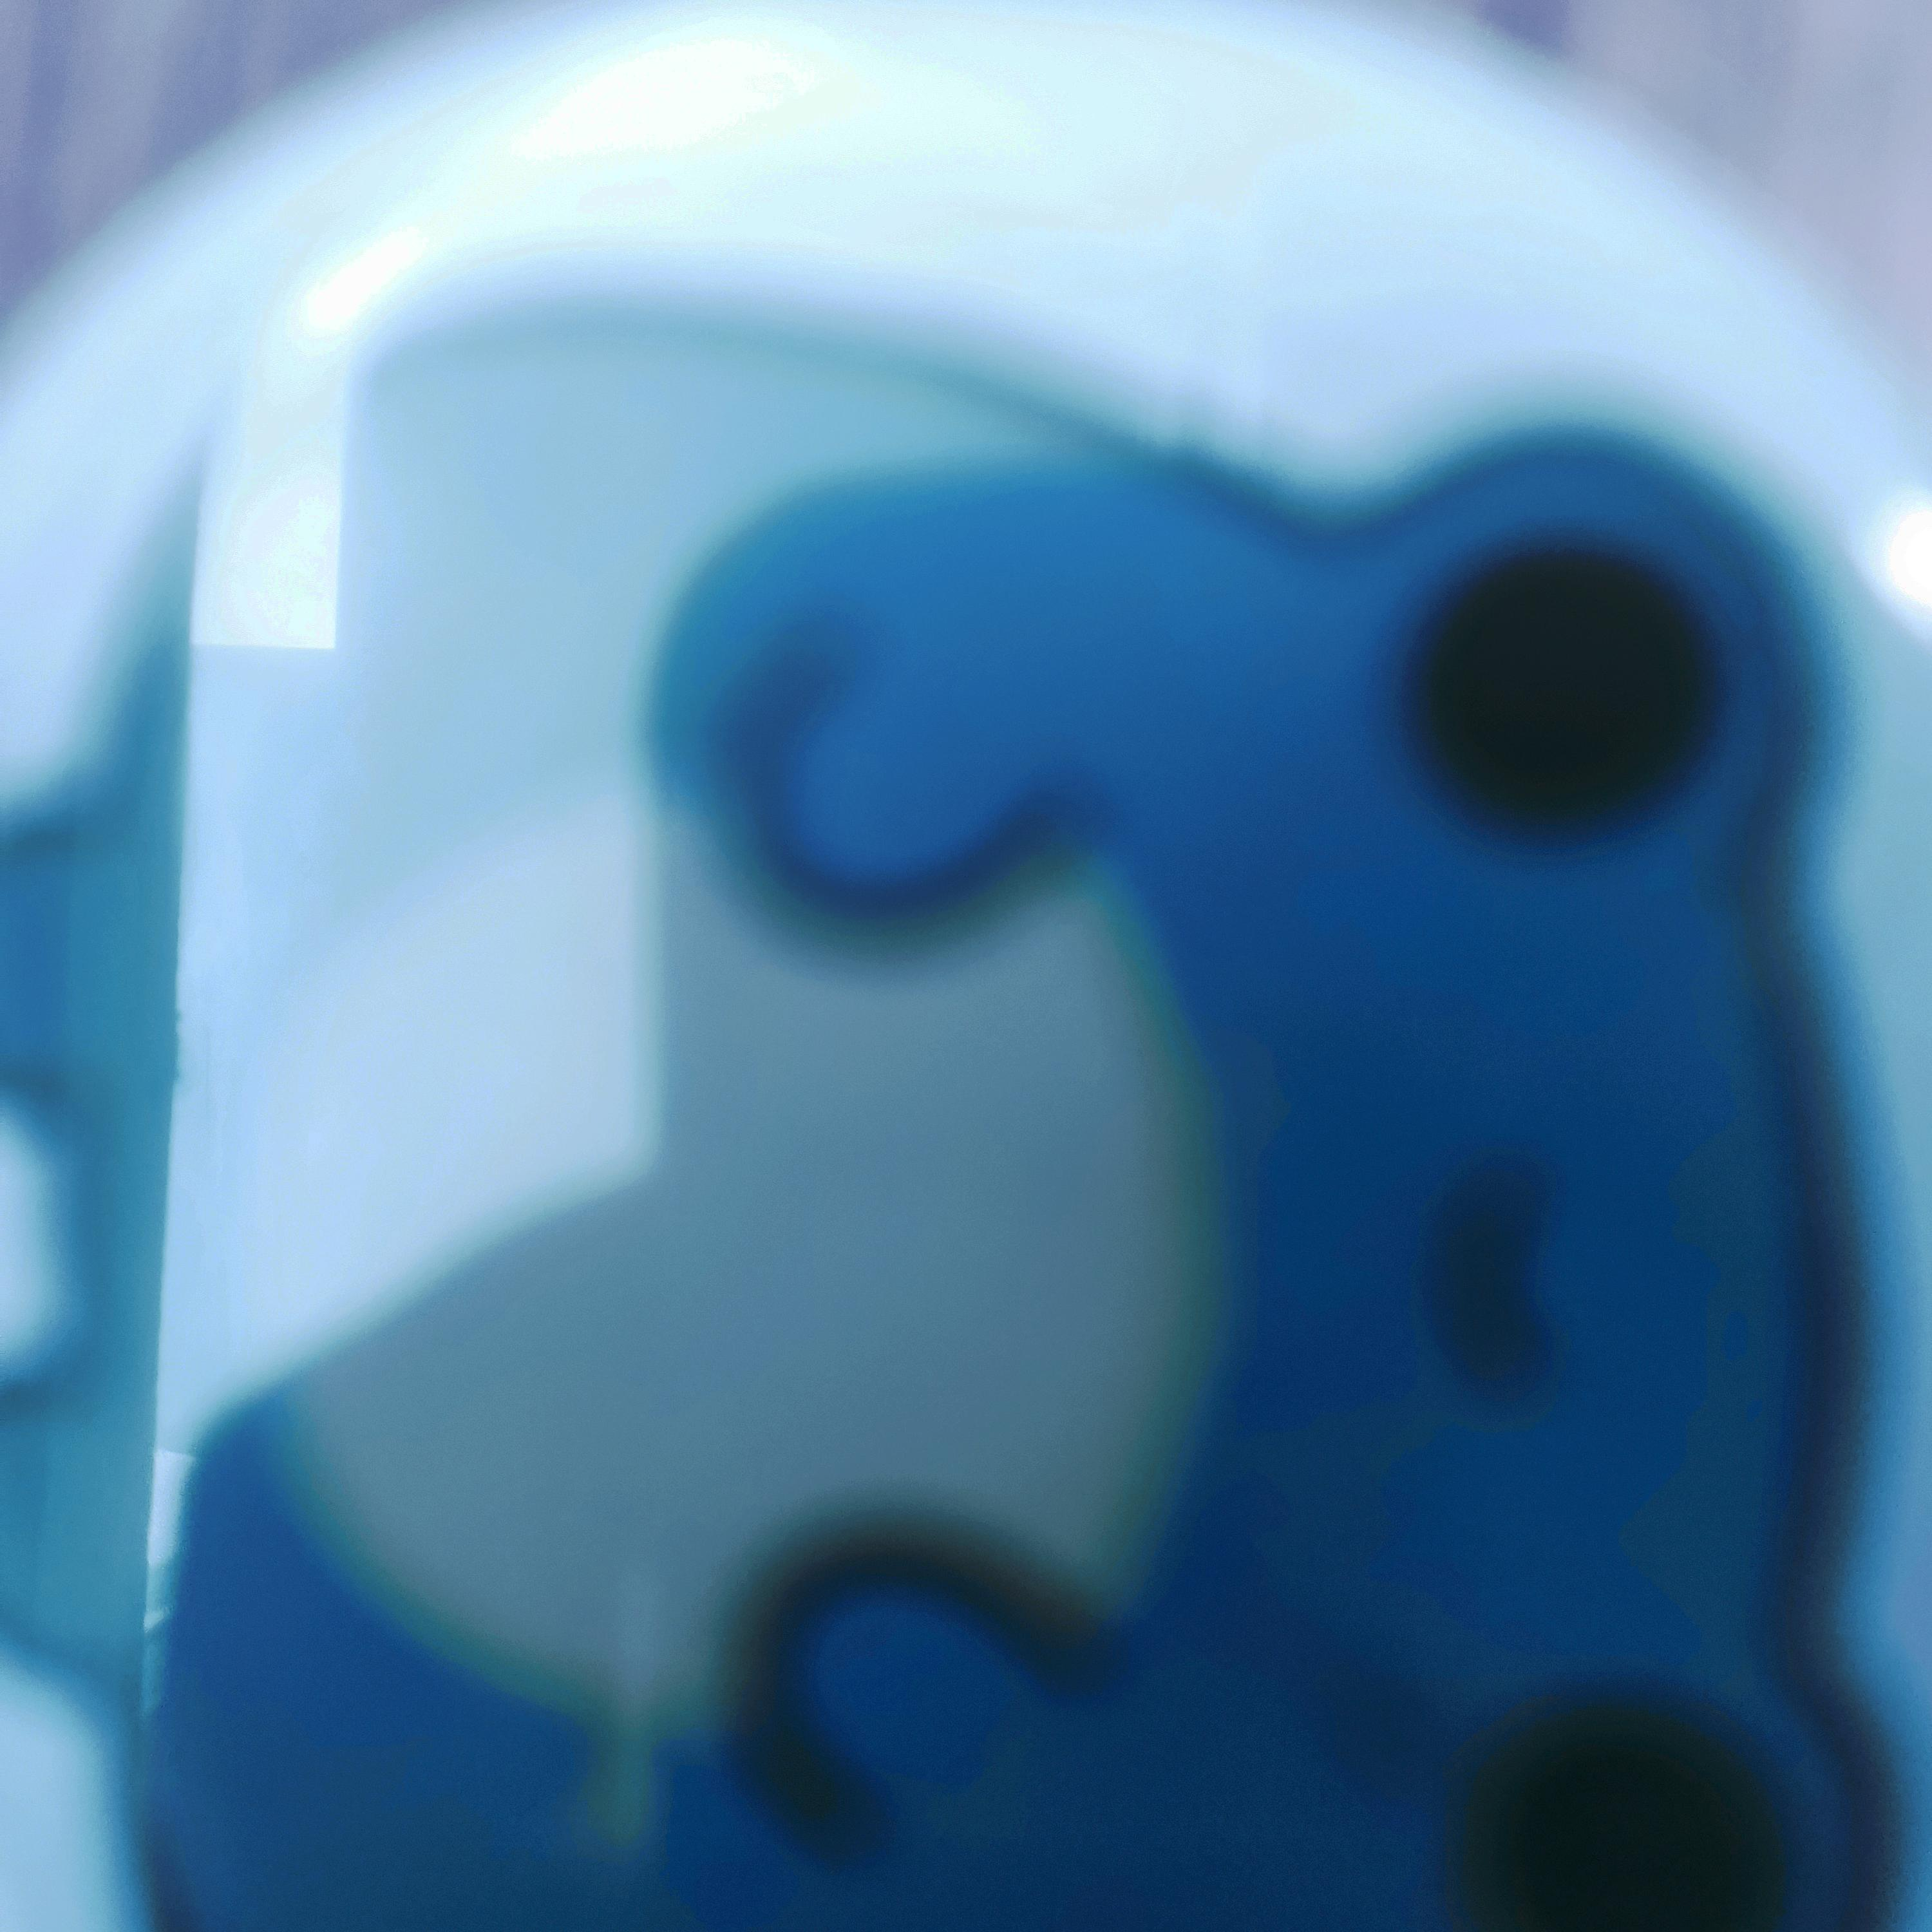pin: (0, 0, 1932, 1932), (1757, 1529, 1803, 1545)
